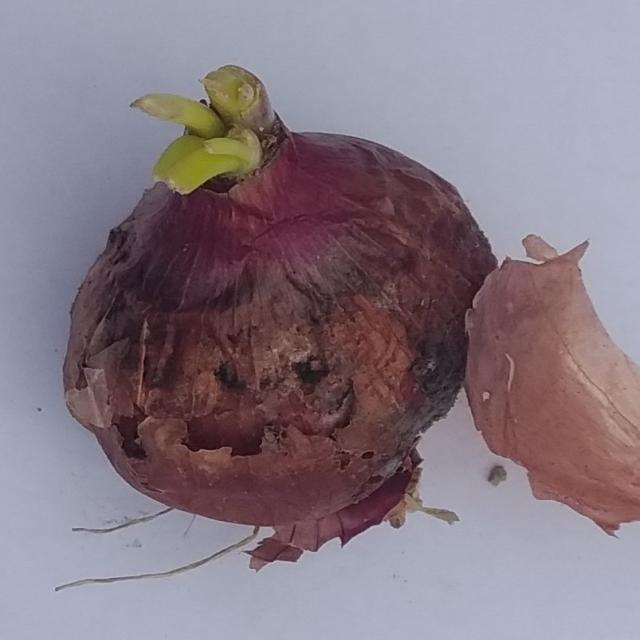onion: (53, 64, 497, 591)
